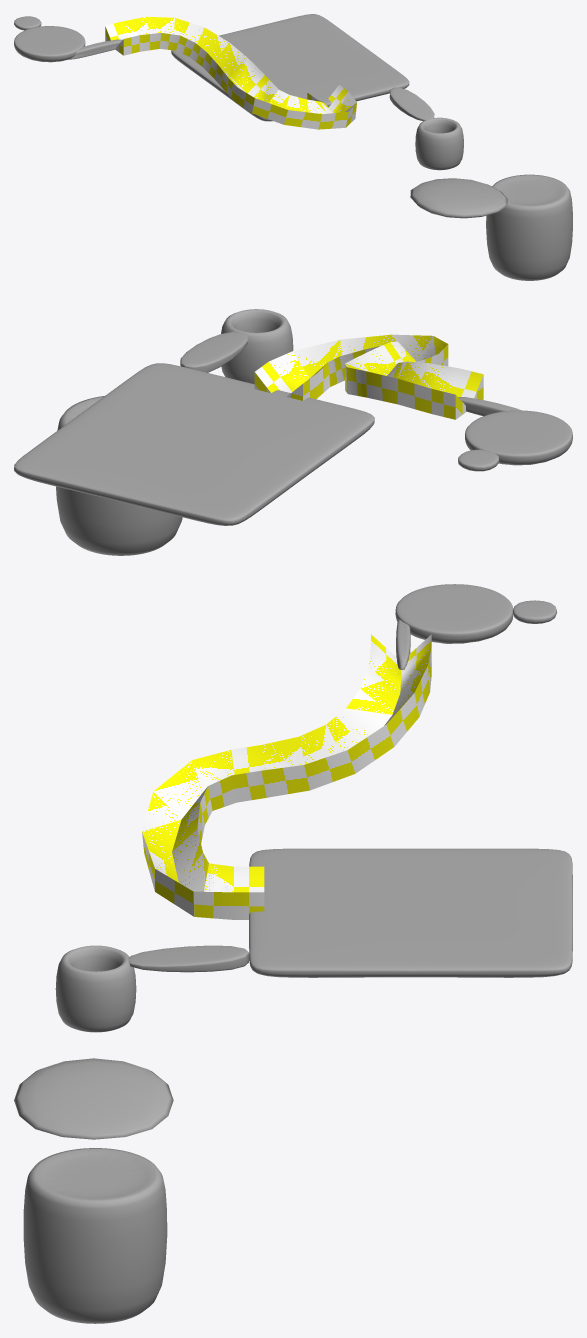
The model's file is map5.fbx.
3 views of the same model, one above another, from view 1: azimuth 30°, elevation 25°; view 2: azimuth 150°, elevation 25°; view 3: azimuth 270°, elevation 25° (orthographic). The views are drawn at different scales.
Visible parts, largest first — view 1: polySurface103; view 2: polySurface103; view 3: polySurface103.
Boxes of the visible parts, <box> form: polySurface103: <box>14,14,572,280</box>; polySurface103: <box>14,309,572,555</box>; polySurface103: <box>14,584,572,1323</box>.
Bounding box in the file's own units: 55.18 × 29.63 × 36.72.
2 materials, 1 textured.
